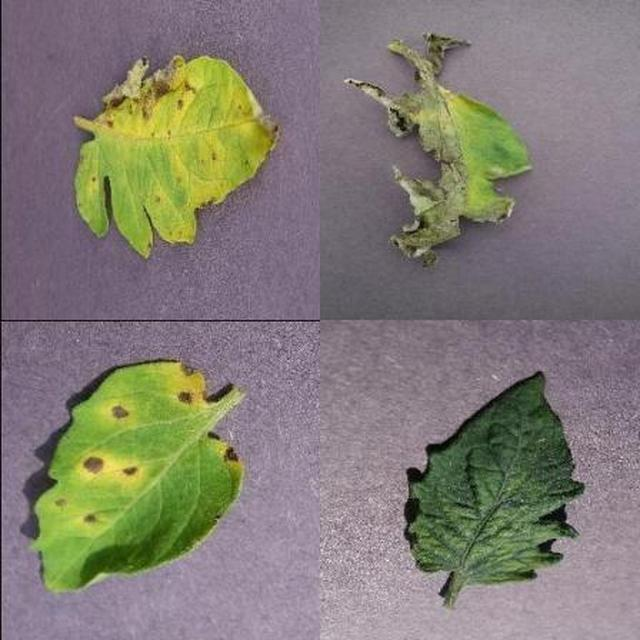Septoria Leaf: (197, 216, 640, 640)
